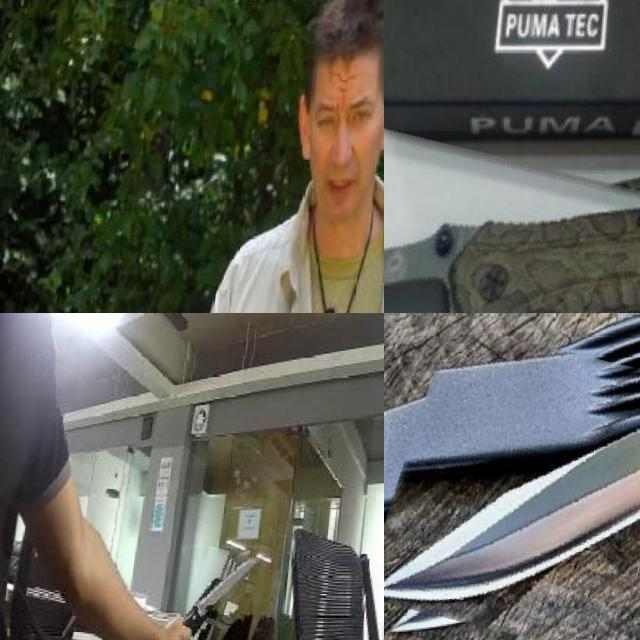-: (384, 338, 640, 640), (384, 129, 640, 313), (192, 547, 268, 640)
